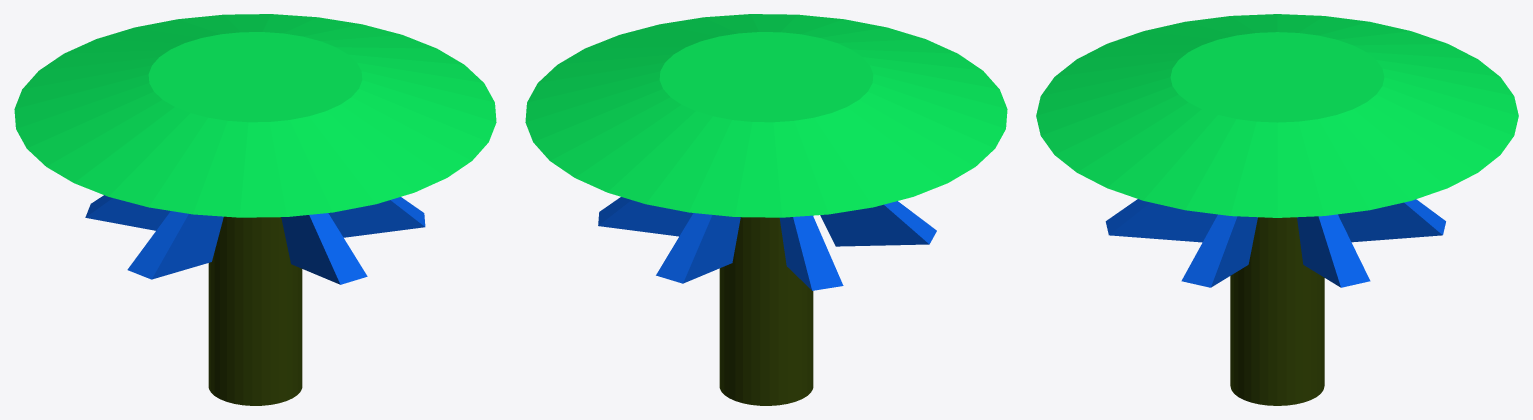
File: SD_Tree3.fbx
3 views of the same model, side by side, from view 1: azimuth 30°, elevation 25°; view 2: azimuth 150°, elevation 25°; view 3: azimuth 270°, elevation 25° (orthographic).
Visible parts, largest first — view 1: Cylinder; view 2: Cylinder; view 3: Cylinder.
Boxes of the visible parts, x1,y1,x2,y2 form: Cylinder: (14,14,496,405); Cylinder: (525,14,1007,405); Cylinder: (1036,14,1518,405).
Size of the model in its own units: 1027 by 725 by 1027.
